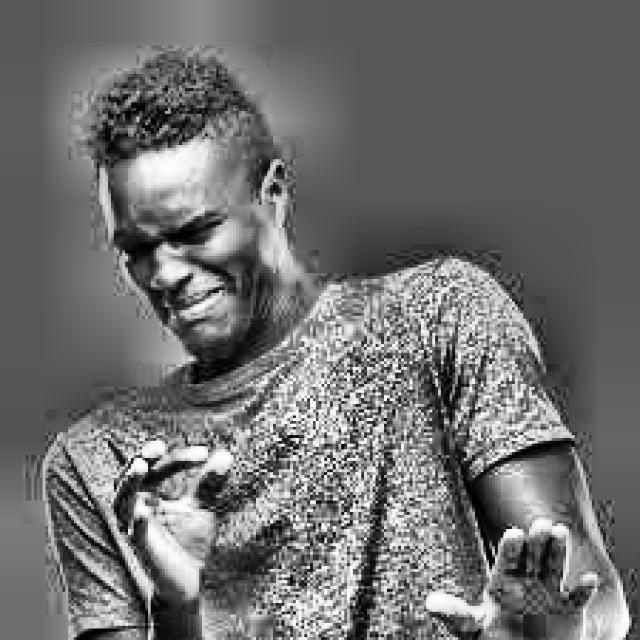disgust: (62, 39, 333, 366)
